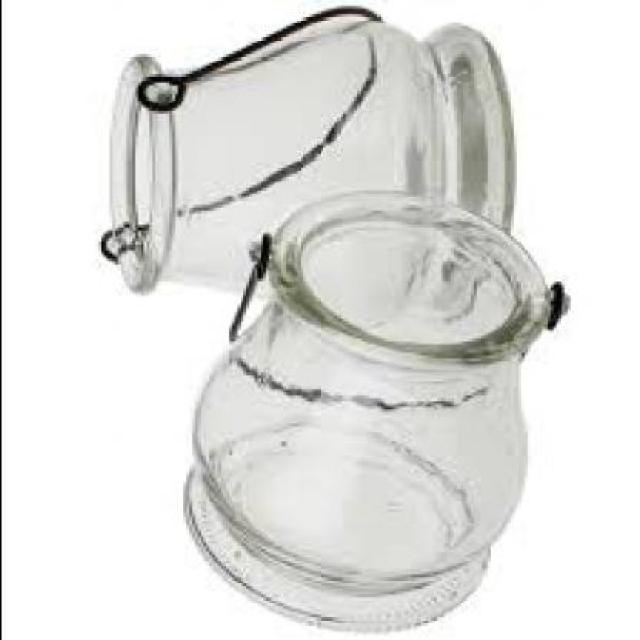GLASS: (180, 188, 548, 626), (102, 17, 512, 298)
